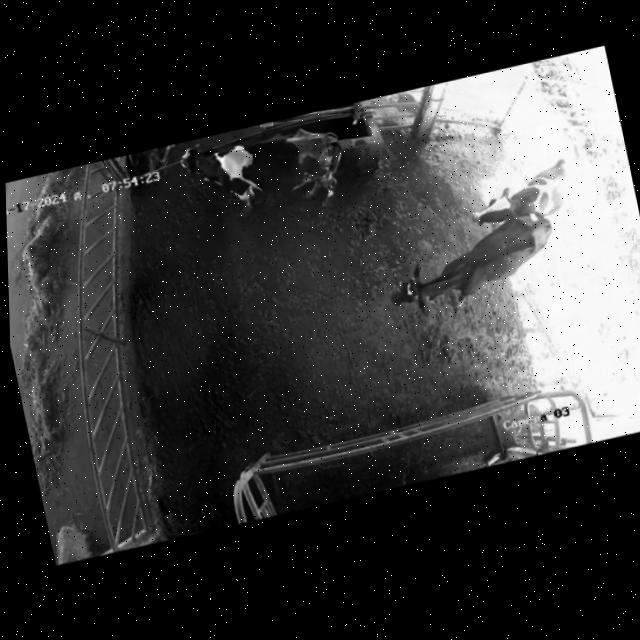stand: (159, 106, 366, 249), (355, 205, 577, 332), (456, 132, 593, 240)
